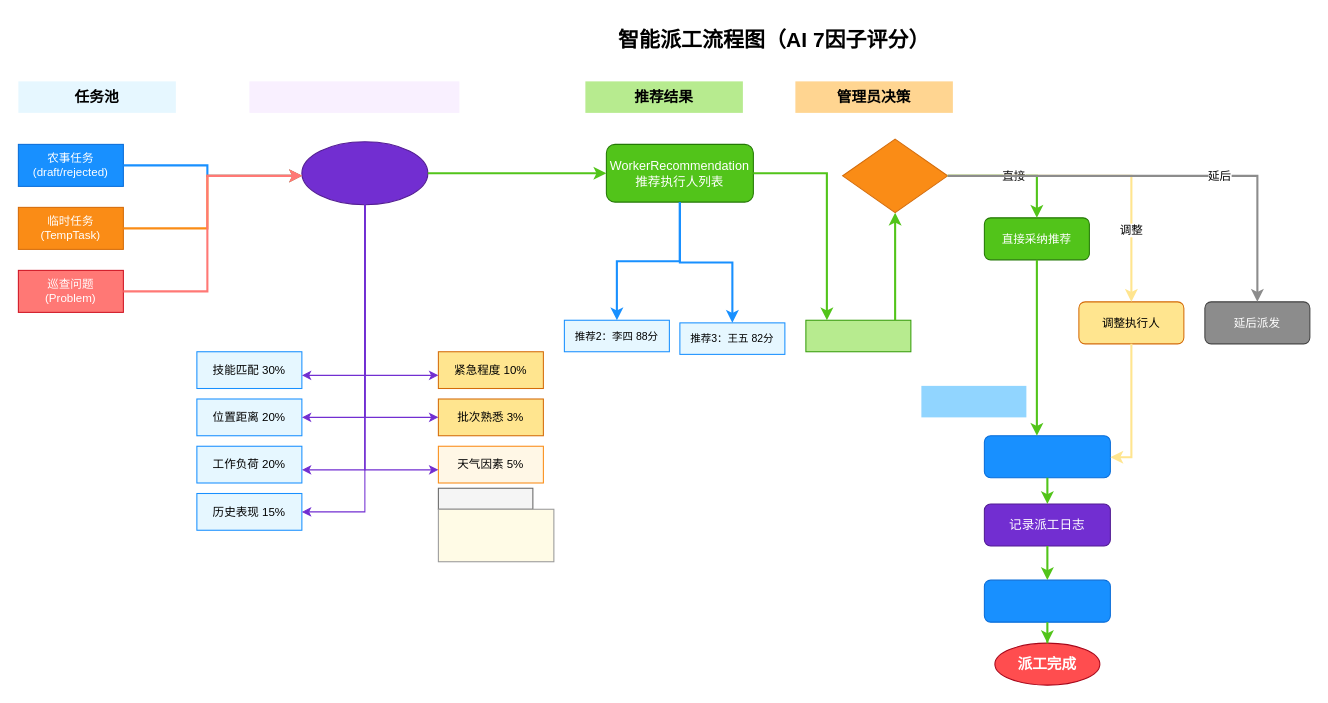
The diagram is 1328 pixels wide and 703 high, and some of its shapes have lost their labels. The centre of each missing label's shape, as x and y in pixels:
AI多因子评分引擎: [354,96]
动态权重调整：: [485,498]
发送派工通知: [1046,600]
执行派工: [973,401]
推荐1：张三 95分: [858,335]
更新任务状态: [1046,456]
紧急任务↑紧急权重 大面积↑位置权重 病虫害↑技能权重: [495,535]
选择派工方式: [895,175]
🤖 AI综合评分: [364,173]
